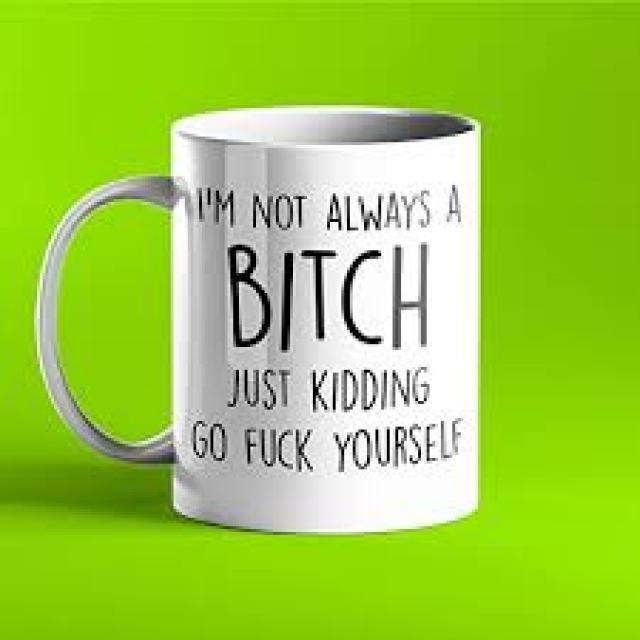taza: (25, 70, 502, 546)
